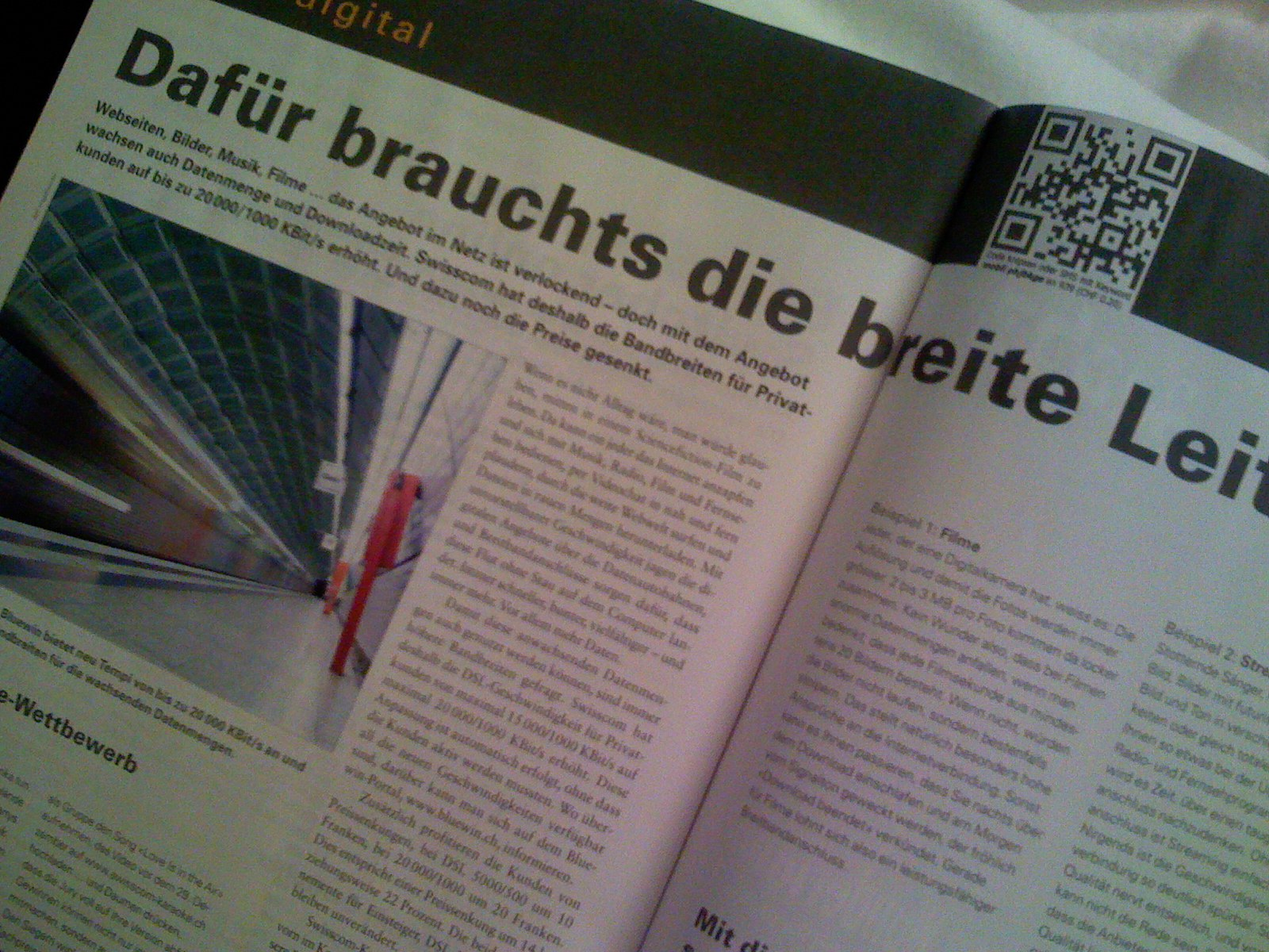QR-CODE: (991, 112, 1193, 290)
